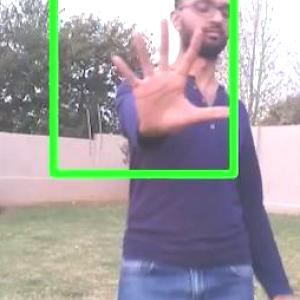follow_hand: (104, 12, 237, 136)
